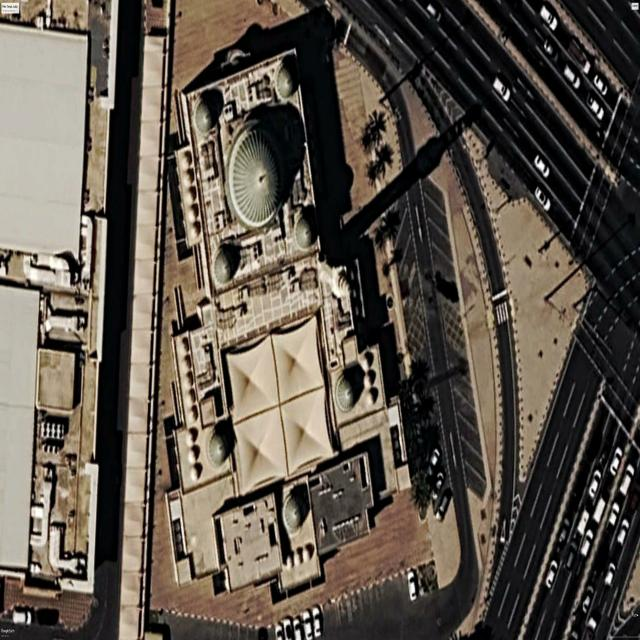mosque: (165, 47, 409, 600)
